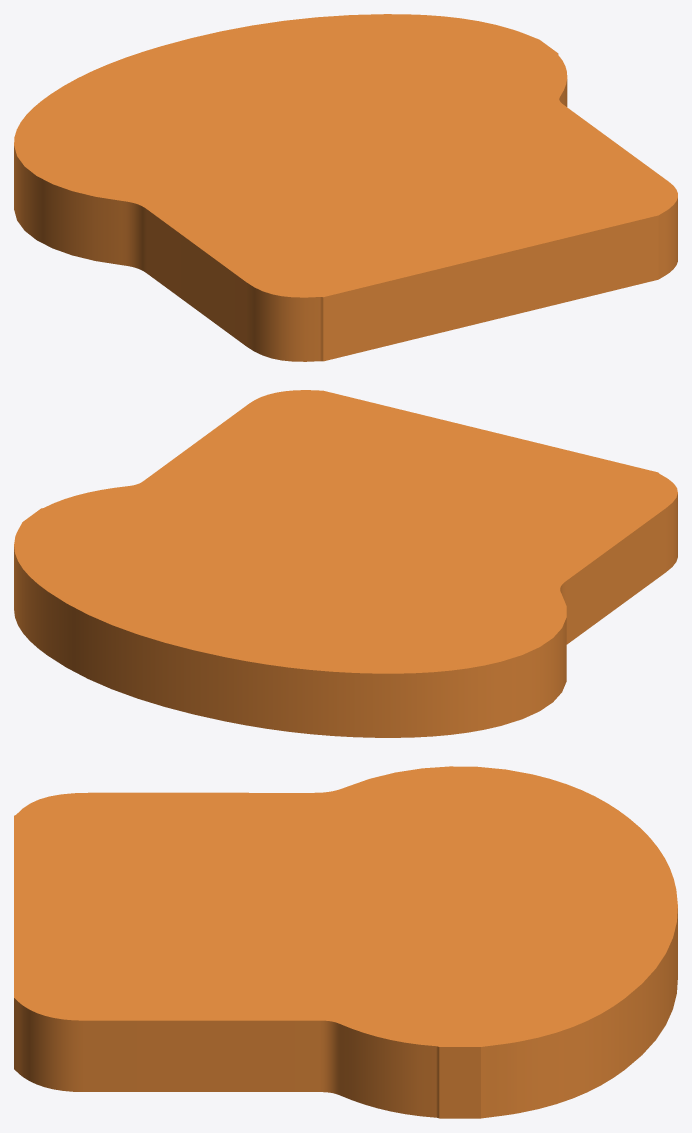
The model's file is Bread_slice.FBX.
3 renders of one model, top to bottom at view 1: azimuth 30°, elevation 25°; view 2: azimuth 150°, elevation 25°; view 3: azimuth 270°, elevation 25°, orthographic. The views are drawn at different scales.
Visible parts, largest first — view 1: Shape1, Shape2, Shape3; view 2: Shape1, Shape3, Shape2; view 3: Shape1, Shape2, Shape3.
Boxes of the visible parts, <box> form: Shape1: <box>14,14,677,361</box>; Shape2: <box>51,30,639,281</box>; Shape3: <box>53,30,640,280</box>; Shape1: <box>14,390,677,737</box>; Shape3: <box>58,407,633,657</box>; Shape2: <box>51,406,636,656</box>; Shape1: <box>14,766,677,1118</box>; Shape2: <box>55,784,634,1029</box>; Shape3: <box>55,784,636,1028</box>.
Bounding box in the file's own units: 12.62 × 1.5 × 12.63.
